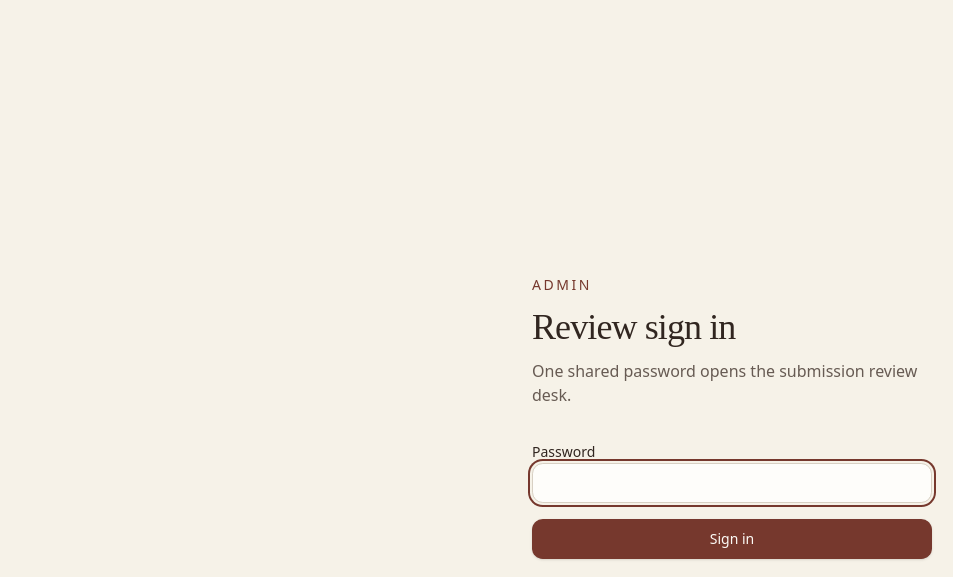
Test case: AdminLoginPage › opens the review desk after a successful sign in
Type "correct-horse" into the password field labelled "Password".
click(732, 483); type("correct-horse")  # box 532,463 -> 932,503
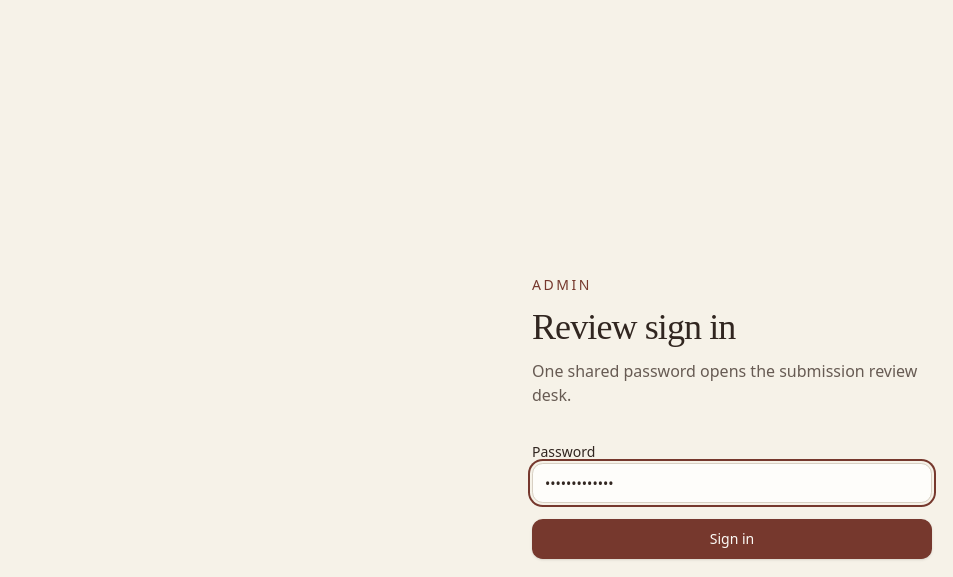
Click the button "Sign in".
click(732, 539)  # box 532,519 -> 932,559
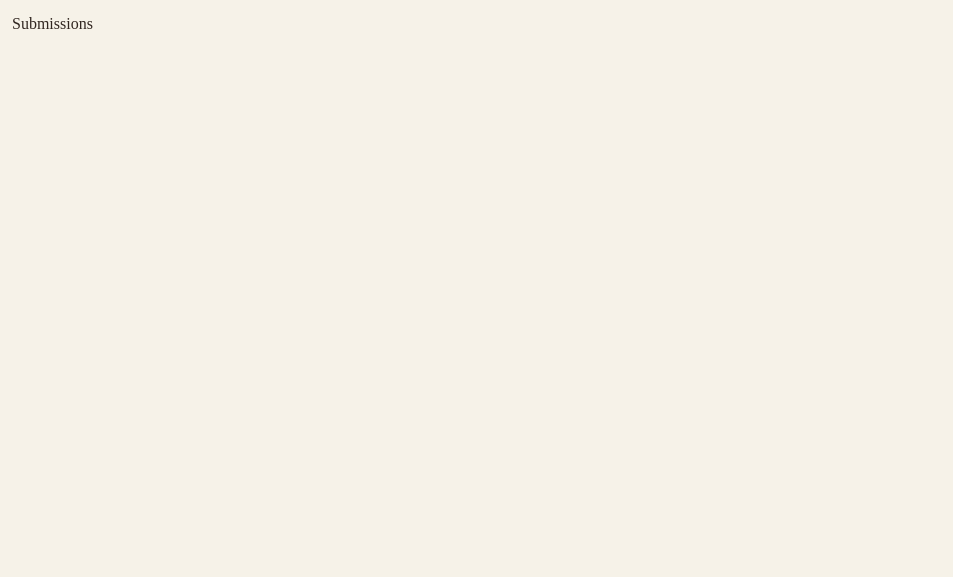
Check: the heading "Submissions" is shown, box 12,15 -> 93,32
